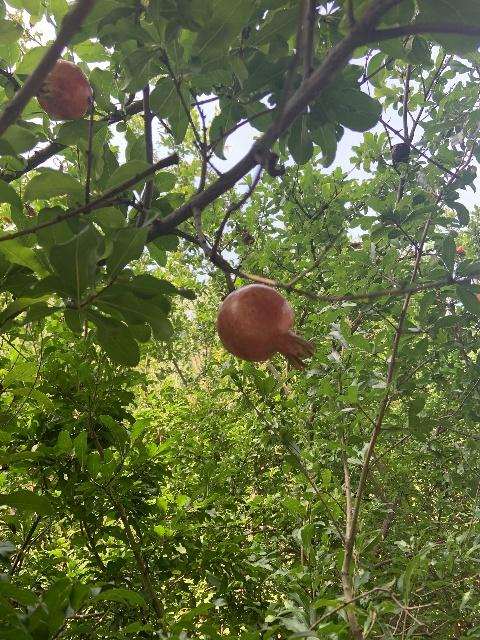ripe: (216, 283, 314, 370), (36, 58, 92, 120), (456, 245, 464, 253)
